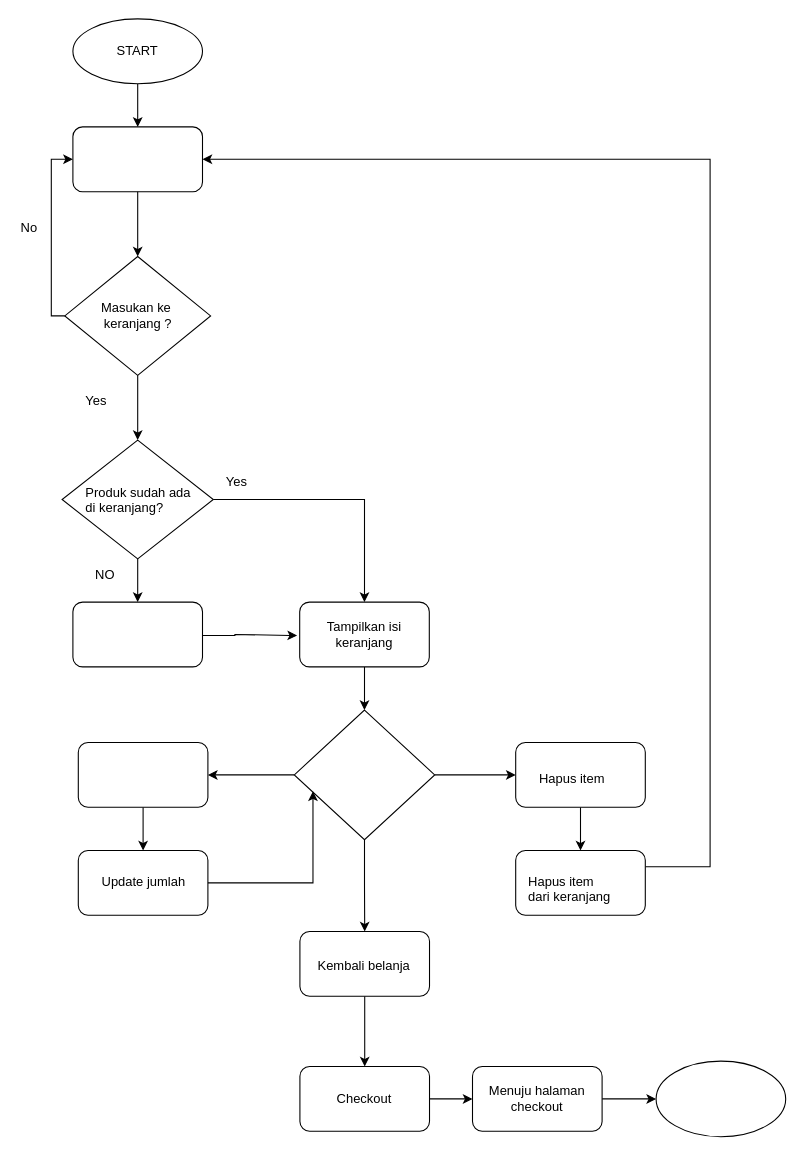
This 805x1156 diagram has some shape labels left out. Each missing label, with the centre of its shape:
"Aksi user?" goes at point (364, 774).
"END" goes at point (720, 1098).
"Tambah produk ke keranjang" goes at point (137, 634).
"Ubah jumlah" goes at point (142, 774).
"User memilih produk" goes at point (137, 159).
